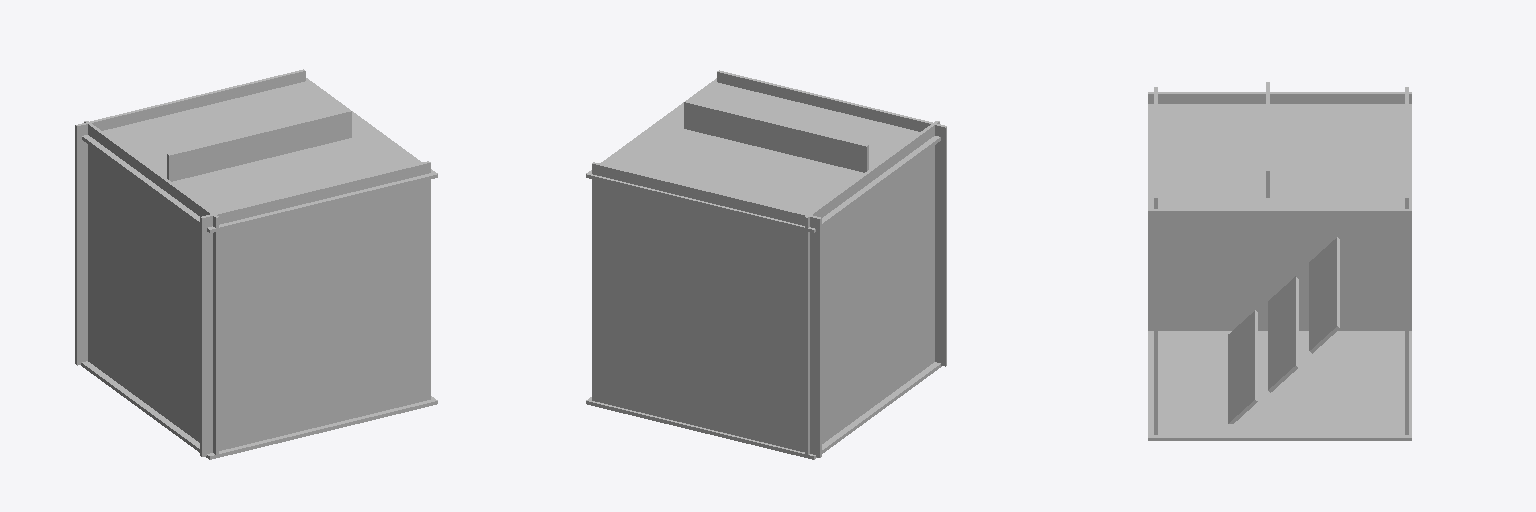
The model's file is DiscoScene.obj.
3 renders of one model, left to right at view 1: azimuth 30°, elevation 25°; view 2: azimuth 150°, elevation 25°; view 3: azimuth 270°, elevation 25°, orthographic.
Visible parts, largest first — view 1: Cube.005_Cube.007, Cube.001_Cube.003, Cube.002_Cube.004, Cube.006_Cube.008, Cube.003_Cube.005, Cube_Cube.002; view 2: Cube.006_Cube.008, Cube.001_Cube.003, Cube.002_Cube.004, Cube.005_Cube.007, Cube.003_Cube.005, Cube_Cube.002; view 3: Cube.001_Cube.003, Cube.002_Cube.004, Cube_Cube.002, Cube.007_Cube.010, Cube.004_Cube.009, Cube.008_Cube.011, Cube.006_Cube.008, Cube.005_Cube.007, Cube.003_Cube.005.
Part boxes in pixels (x1,y1,x2,y2): Cube.005_Cube.007: (200,161,430,456); Cube.001_Cube.003: (84,121,218,454); Cube.002_Cube.004: (82,78,437,232); Cube.006_Cube.008: (75,69,305,365); Cube.003_Cube.005: (167,110,351,181); Cube_Cube.002: (81,361,437,459); Cube.006_Cube.008: (592,162,821,457); Cube.001_Cube.003: (805,121,939,456); Cube.002_Cube.004: (586,78,940,232); Cube.005_Cube.007: (717,70,946,366); Cube.003_Cube.005: (684,101,868,172); Cube_Cube.002: (586,362,941,459); Cube.001_Cube.003: (1148,92,1411,330); Cube.002_Cube.004: (1148,104,1411,214); Cube_Cube.002: (1148,331,1411,440); Cube.007_Cube.010: (1268,276,1298,392); Cube.004_Cube.009: (1309,237,1339,353); Cube.008_Cube.011: (1228,310,1257,423); Cube.006_Cube.008: (1405,87,1408,434); Cube.005_Cube.007: (1154,87,1157,434); Cube.003_Cube.005: (1266,82,1269,298).
Size of the model in its own units: 1.02 by 1.07 by 1.